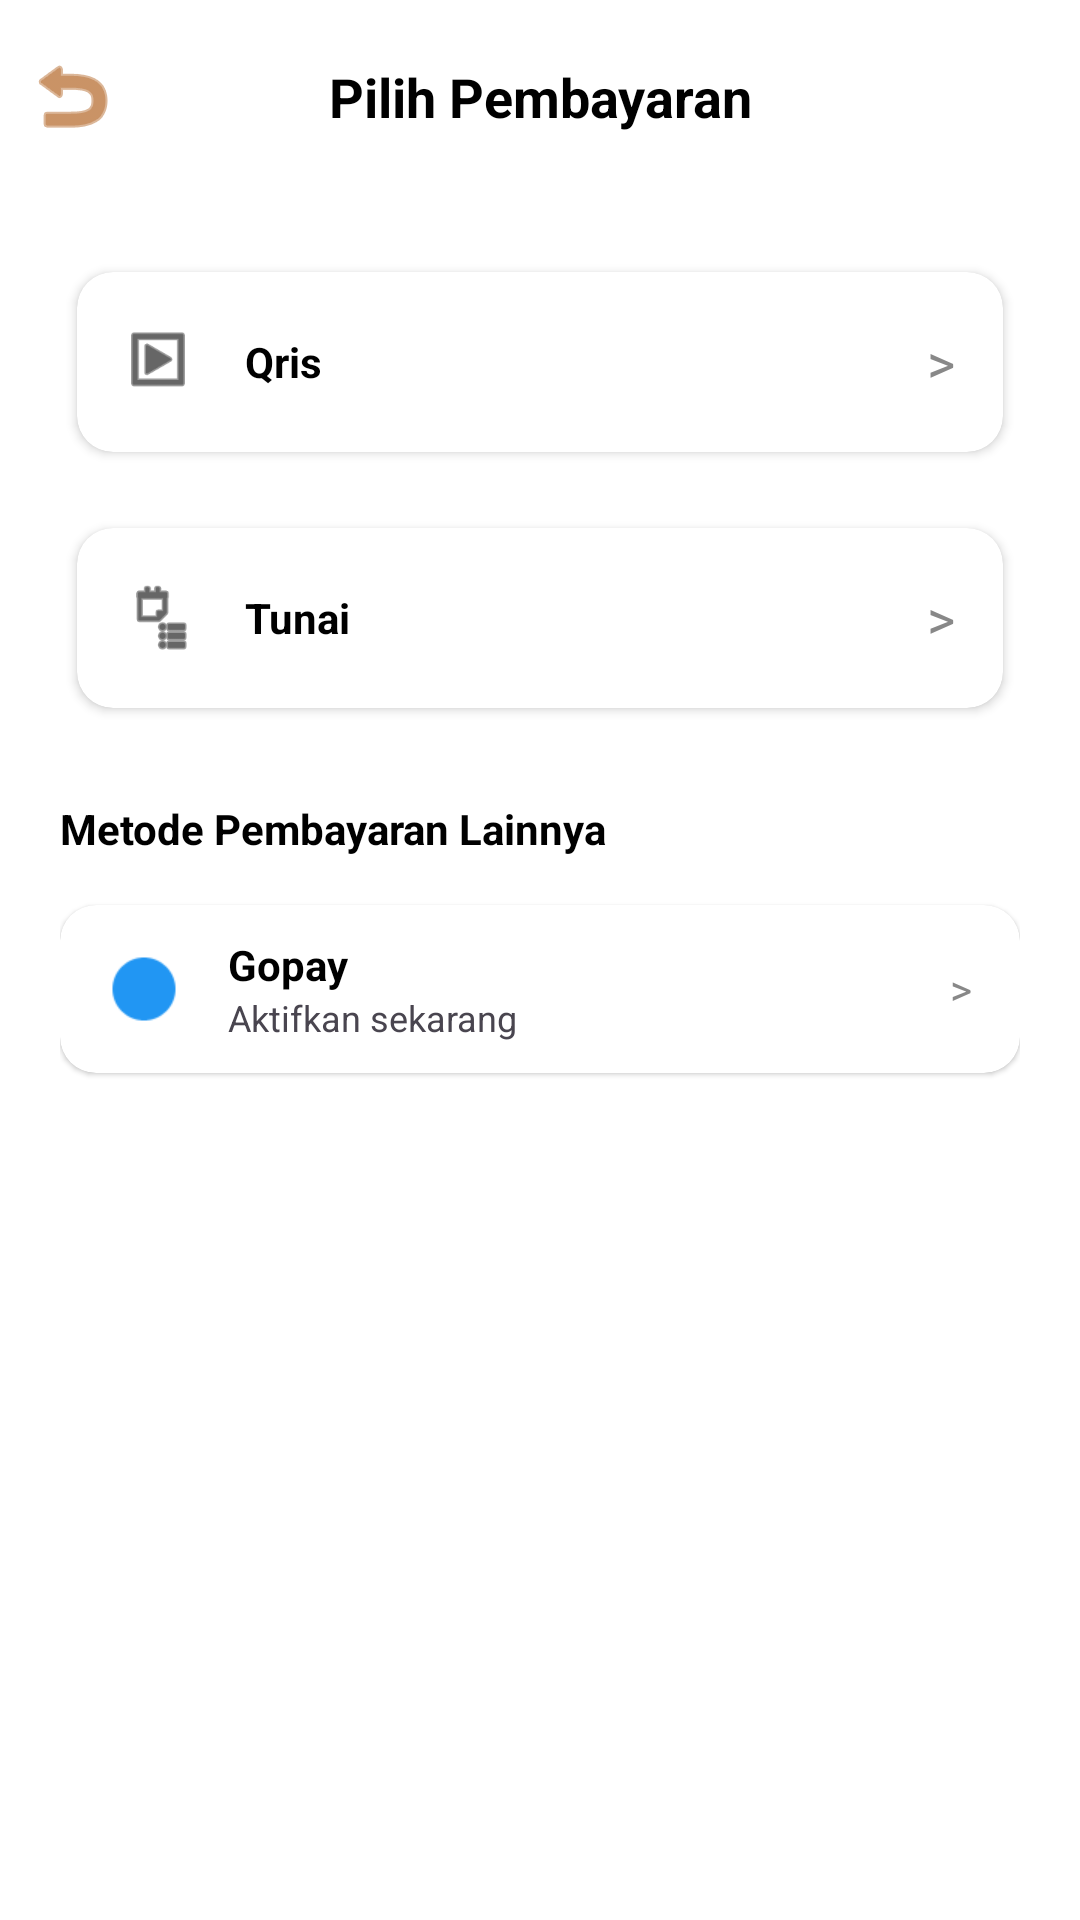

Screen size 1080 x 1920. Icon name, then its box in pixels as (x1, y1, x2, y2):
agenda: (136, 586, 187, 650)
revert: (39, 65, 108, 128)
slideshow: (131, 332, 185, 387)
